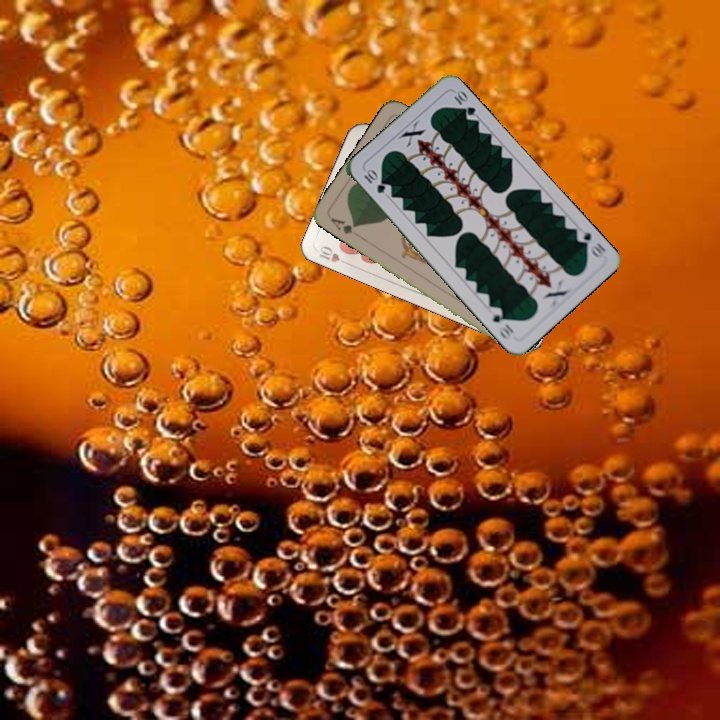G10: (572, 228, 608, 262), (360, 165, 388, 196)
GA: (326, 213, 359, 237)
H10: (315, 242, 352, 268)
